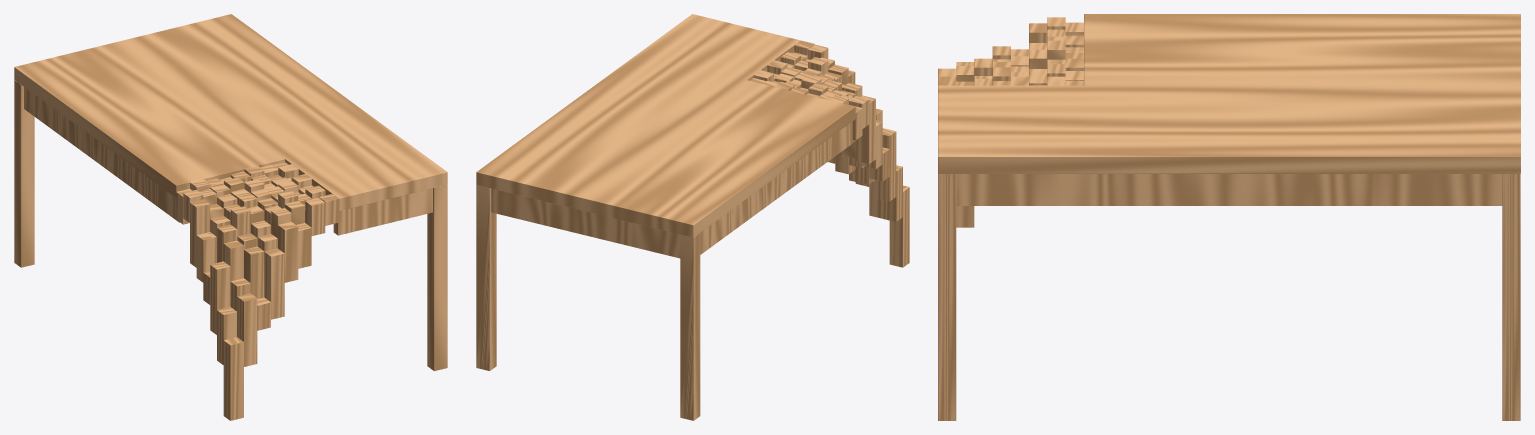
Rendered from table_fragmented_wood.glb.
3 renders of one model, left to right at view 1: azimuth 30°, elevation 25°; view 2: azimuth 150°, elevation 25°; view 3: azimuth 270°, elevation 25°, orthographic. The views are drawn at different scales.
Visible parts, largest first — view 1: Table_Fragmented_Wood, Cube.001, Cube.065, Cube.067, Cube.068, Cube.072; view 2: Table_Fragmented_Wood, Cube.001, Cube.070, Cube.067, Cube.066, Cube.068; view 3: Table_Fragmented_Wood, Cube.071, Cube.001, Cube.065, Cube.066.
Boxes of the visible parts, x1,y1,x2,y2 form: Table_Fragmented_Wood: (14,14,447,210); Cube.001: (176,162,338,420); Cube.065: (427,185,447,371); Cube.067: (14,80,34,267); Cube.068: (24,87,179,222); Cube.072: (333,188,432,235); Table_Fragmented_Wood: (476,14,855,237); Cube.001: (750,40,909,267); Cube.070: (491,188,680,258); Cube.067: (680,233,700,420); Cube.066: (476,185,496,371); Cube.068: (700,121,852,254); Table_Fragmented_Wood: (938,14,1520,173); Cube.071: (956,174,1502,205); Cube.001: (938,17,1083,227); Cube.065: (938,174,956,420); Cube.066: (1502,174,1520,420).
Size of the model in its own units: 90 by 77.5 by 155.
Materials: 1 (1 with a texture image).
